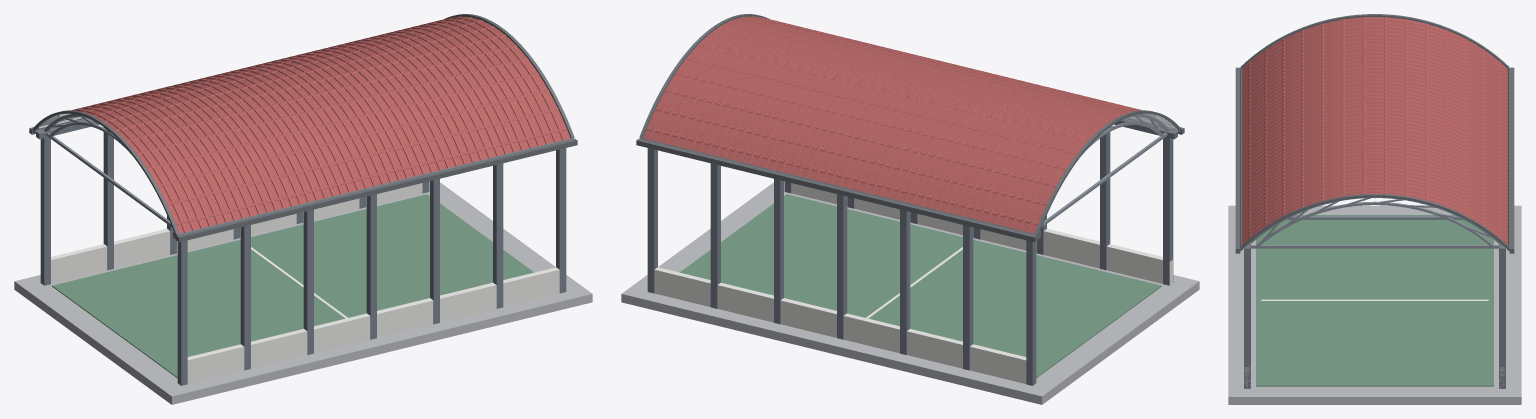
Rendered from Mega_Curved_Mini_Gym.glb.
3 views of the same model, side by side, from view 1: azimuth 30°, elevation 25°; view 2: azimuth 150°, elevation 25°; view 3: azimuth 270°, elevation 25° (orthographic). The views are drawn at different scales.
Parts seen in each view (by area): view 1: Court_Floor, Foundation, Gym_Walls_Curb_Front, Gym_Walls_Curb_Back, RoofSheet_04, RoofSheet_03, RoofSheet_08, RoofSheet_09, RoofSheet_11, RoofSheet_05, RoofSheet_06, RoofSheet_02 (+18 smaller); view 2: Court_Floor, Foundation, Gym_Walls_Curb_Back, Gym_Walls_Curb_Front, RoofSheet_04, RoofSheet_03, RoofSheet_08, RoofSheet_09, RoofSheet_11, RoofSheet_05, RoofSheet_06, RoofSheet_02 (+18 smaller); view 3: Court_Floor, Foundation, RoofSheet_06, RoofSheet_10, RoofSheet_09, RoofSheet_11, RoofSheet_07, RoofSheet_05, RoofSheet_08, RoofSheet_04, RoofSheet_03, RoofSheet_02 (+15 smaller).
Part boxes in pixels (left/top/right/bottom): Court_Floor: left=52, top=194, right=533, bottom=378; Foundation: left=14, top=181, right=592, bottom=404; Gym_Walls_Curb_Front: left=187, top=267, right=559, bottom=383; Gym_Walls_Curb_Back: left=51, top=183, right=422, bottom=283; RoofSheet_04: left=162, top=79, right=308, bottom=209; RoofSheet_03: left=129, top=87, right=275, bottom=217; RoofSheet_08: left=293, top=47, right=440, bottom=177; RoofSheet_09: left=328, top=39, right=473, bottom=169; RoofSheet_11: left=393, top=23, right=539, bottom=153; RoofSheet_05: left=195, top=71, right=341, bottom=201; RoofSheet_06: left=227, top=63, right=374, bottom=193; RoofSheet_02: left=98, top=96, right=242, bottom=225; Court_Floor: left=680, top=194, right=1161, bottom=378; Foundation: left=621, top=181, right=1199, bottom=404; Gym_Walls_Curb_Back: left=654, top=267, right=1026, bottom=383; Gym_Walls_Curb_Front: left=791, top=183, right=1172, bottom=285; RoofSheet_04: left=905, top=79, right=1051, bottom=209; RoofSheet_03: left=938, top=87, right=1084, bottom=217; RoofSheet_08: left=773, top=47, right=920, bottom=177; RoofSheet_09: left=740, top=39, right=885, bottom=169; RoofSheet_11: left=674, top=23, right=820, bottom=153; RoofSheet_05: left=872, top=71, right=1018, bottom=201; RoofSheet_06: left=839, top=63, right=986, bottom=193; RoofSheet_02: left=971, top=96, right=1115, bottom=225; Court_Floor: left=1256, top=215, right=1493, bottom=386; Foundation: left=1228, top=205, right=1521, bottom=404; RoofSheet_06: left=1241, top=90, right=1508, bottom=157; RoofSheet_10: left=1241, top=150, right=1508, bottom=216; RoofSheet_09: left=1241, top=135, right=1508, bottom=201; RoofSheet_11: left=1241, top=165, right=1508, bottom=231; RoofSheet_07: left=1241, top=105, right=1508, bottom=172; RoofSheet_05: left=1241, top=75, right=1508, bottom=142; RoofSheet_08: left=1241, top=120, right=1508, bottom=186; RoofSheet_04: left=1241, top=60, right=1508, bottom=127; RoofSheet_03: left=1241, top=45, right=1508, bottom=112; RoofSheet_02: left=1241, top=30, right=1508, bottom=97.
Bounding box in the file's own units: 12.96 × 6.46 × 8.4.
